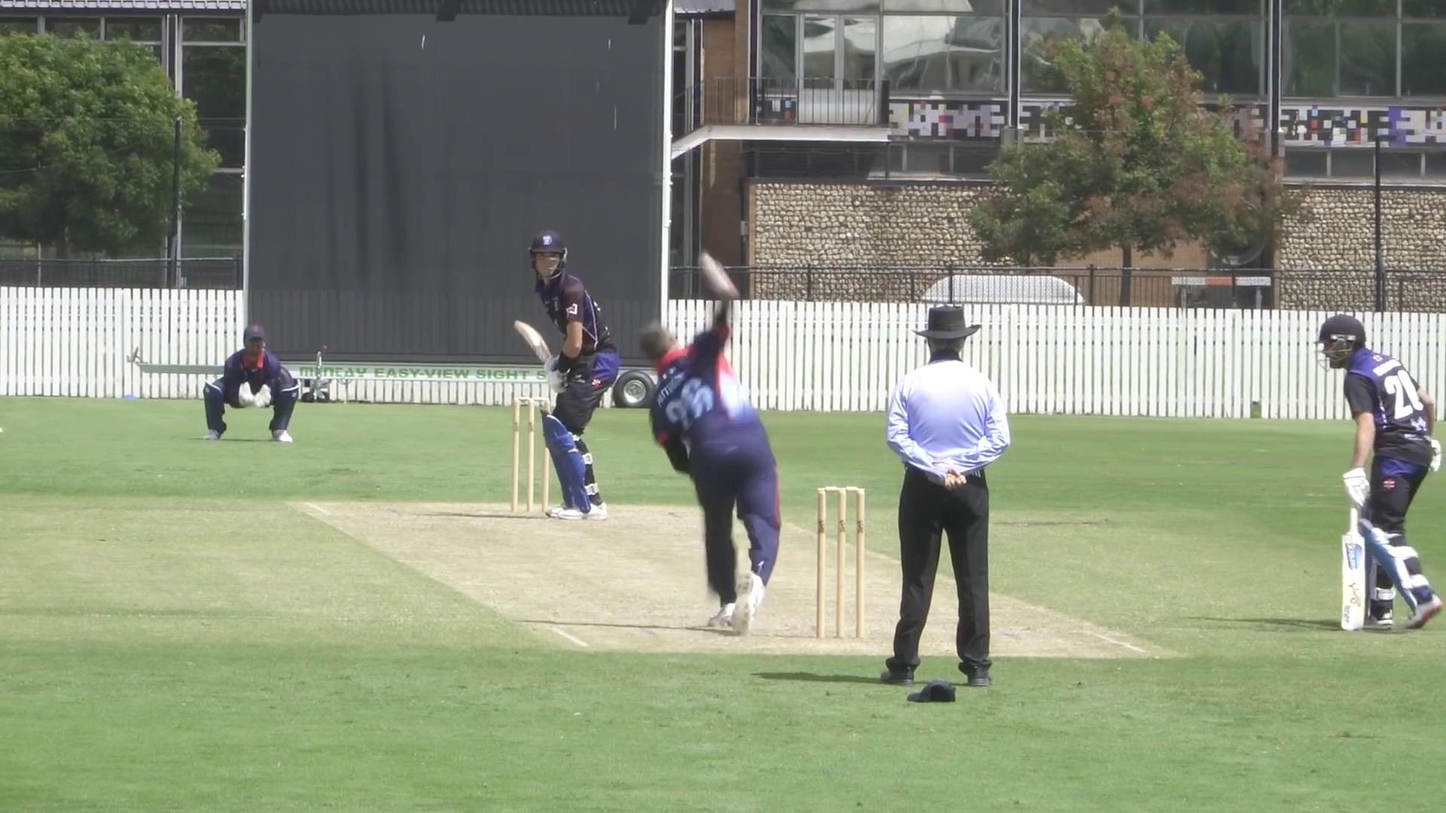ball: (693, 253, 740, 295)
